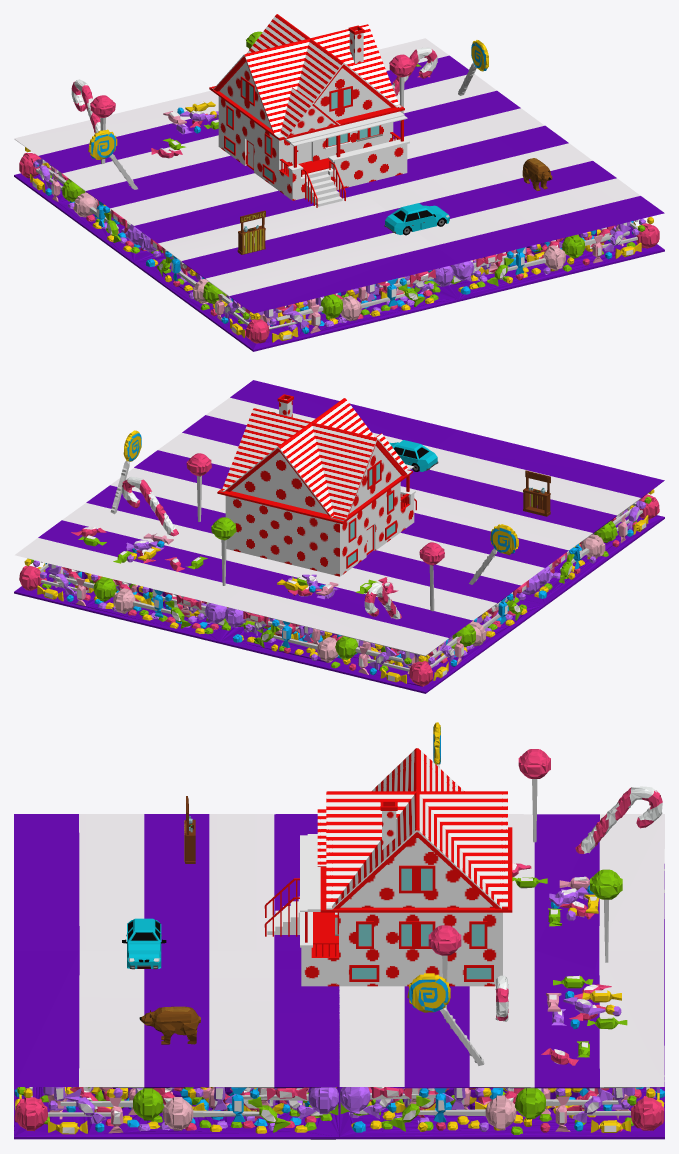
3 renders of one model, top to bottom at view 1: azimuth 30°, elevation 25°; view 2: azimuth 150°, elevation 25°; view 3: azimuth 270°, elevation 25°, orthographic. The views are drawn at different scales.
Parts seen in each view (by area): view 1: TERRAIN_CANDY, Cube.196, VEHICLES_CAR, OBJRANDOM_LEMONADE_STAND, ANIMAL_OSO; view 2: TERRAIN_CANDY, Cube.196, OBJRANDOM_LEMONADE_STAND, VEHICLES_CAR; view 3: TERRAIN_CANDY, Cube.196, VEHICLES_CAR, ANIMAL_OSO, OBJRANDOM_LEMONADE_STAND.
Part boxes in pixels (x1,y1,x2,y2): TERRAIN_CANDY: (14, 31, 664, 351); Cube.196: (209, 14, 409, 207); VEHICLES_CAR: (384, 203, 449, 235); OBJRANDOM_LEMONADE_STAND: (237, 210, 265, 254); ANIMAL_OSO: (522, 158, 552, 190); TERRAIN_CANDY: (14, 380, 664, 693); Cube.196: (217, 394, 416, 576); OBJRANDOM_LEMONADE_STAND: (523, 470, 550, 516); VEHICLES_CAR: (389, 440, 438, 471); TERRAIN_CANDY: (14, 722, 664, 1139); Cube.196: (264, 748, 512, 986); VEHICLES_CAR: (122, 918, 166, 969); ANIMAL_OSO: (139, 1006, 200, 1044); OBJRANDOM_LEMONADE_STAND: (184, 796, 195, 863).
Bounding box in the file's own units: 4059 × 1593 × 4000.
29 materials, 3 textured.
